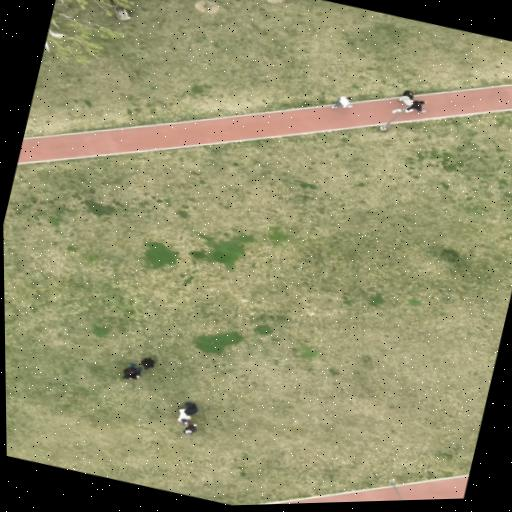person: (394, 101, 425, 113), (124, 364, 142, 379), (332, 97, 352, 108), (178, 409, 191, 424), (140, 358, 154, 370), (185, 403, 197, 416), (183, 424, 196, 435), (399, 96, 412, 106), (403, 91, 415, 99)
